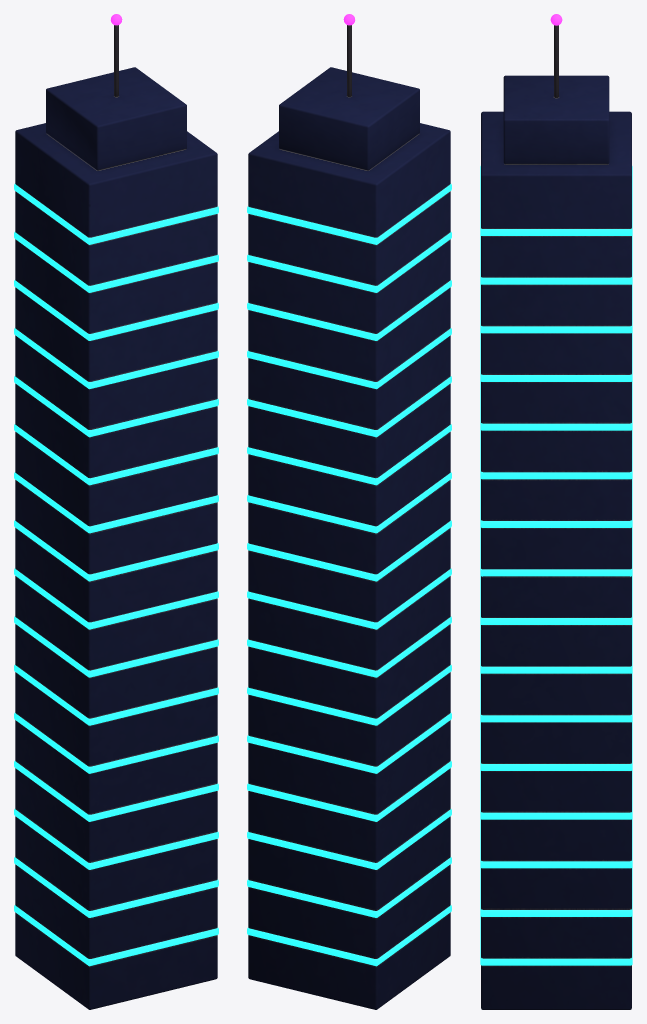
The model's file is rn_skyscraper_cyan.glb.
3 views of the same model, side by side, from view 1: azimuth 30°, elevation 25°; view 2: azimuth 150°, elevation 25°; view 3: azimuth 270°, elevation 25° (orthographic).
Parts seen in each view (by area): view 1: rn_skyscraper_cyan; view 2: rn_skyscraper_cyan; view 3: rn_skyscraper_cyan.
Boxes of the visible parts, x1=… form: rn_skyscraper_cyan: x1=14, y1=14, x2=218, y2=1009; rn_skyscraper_cyan: x1=247, y1=14, x2=451, y2=1009; rn_skyscraper_cyan: x1=480, y1=14, x2=632, y2=1009.
Bounding box in the file's own units: 9.1 × 63.45 × 9.1.
Materials: 4 (4 with a texture image).
